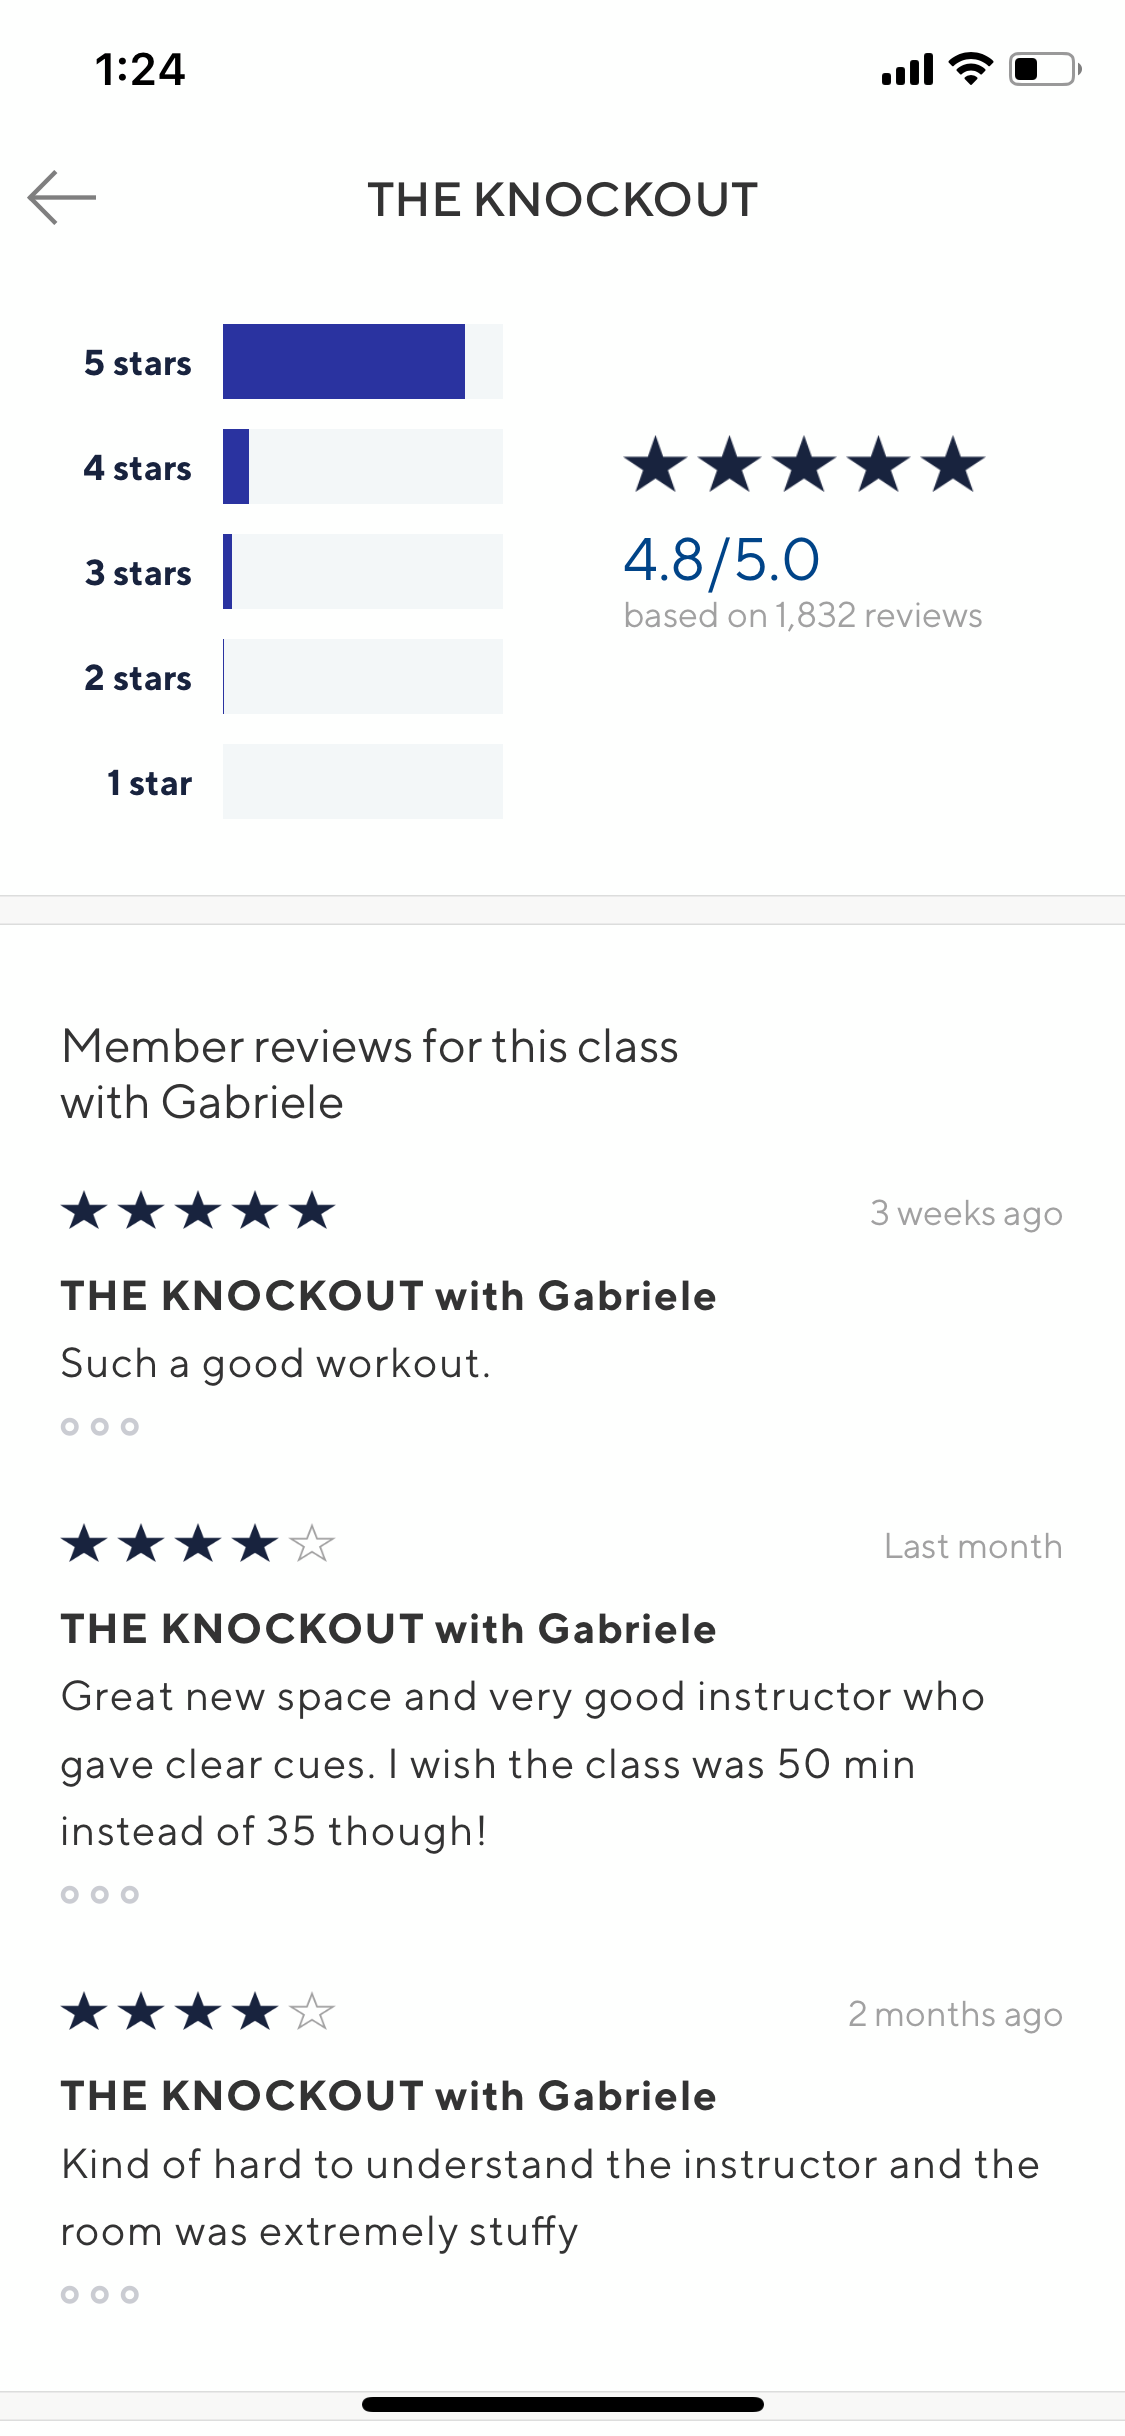Buttons: (5, 135, 137, 256), (40, 1384, 162, 1477), (39, 2253, 155, 2344), (42, 1853, 160, 1936)
Rating: (587, 413, 1060, 595), (44, 1157, 360, 1257), (39, 1973, 364, 2051), (54, 1502, 364, 1580)
